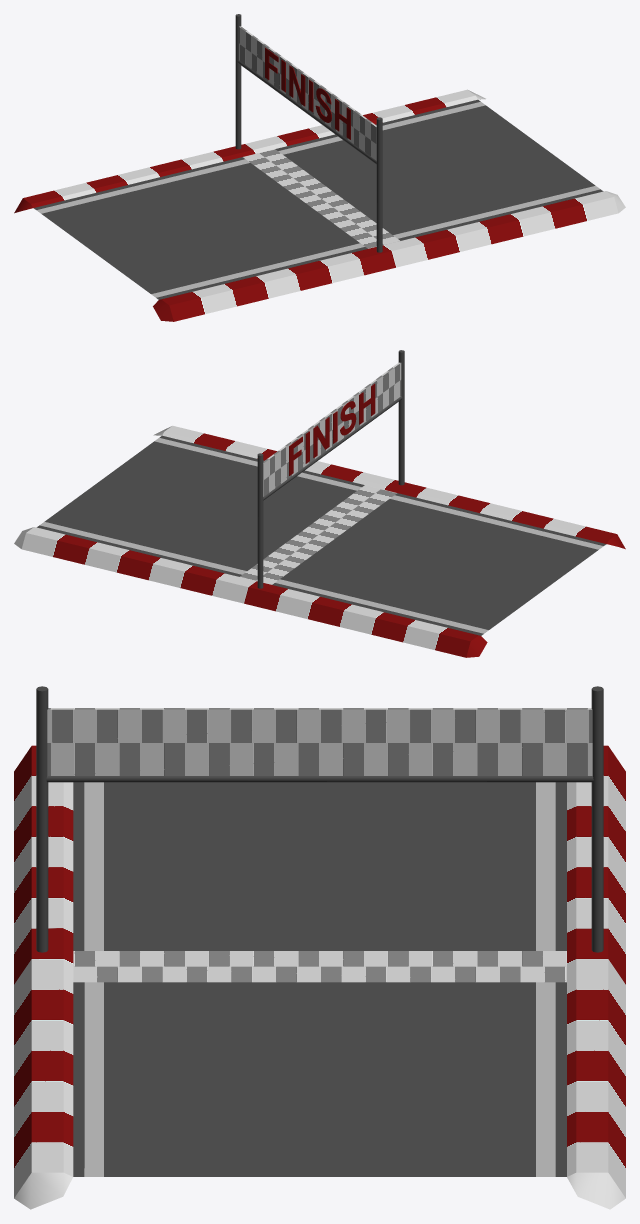
The model's file is Track_Finish.FBX.
3 views of the same model, one above another, from view 1: azimuth 30°, elevation 25°; view 2: azimuth 150°, elevation 25°; view 3: azimuth 270°, elevation 25° (orthographic). The views are drawn at different scales.
Visible parts, largest first — view 1: Track_Finish, Track_Finish_Apex_Right, Track_Finish_Apex_Left, finish_text; view 2: Track_Finish, Track_Finish_Apex_Left, Track_Finish_Apex_Right, finish_text; view 3: Track_Finish, Track_Finish_Apex_Right, Track_Finish_Apex_Left.
Part boxes in pixels (x1,y1,x2,y2): Track_Finish: (33, 14, 603, 299); Track_Finish_Apex_Right: (153, 191, 625, 321); Track_Finish_Apex_Left: (14, 89, 485, 213); finish_text: (265, 47, 350, 139); Track_Finish: (37, 350, 606, 635); Track_Finish_Apex_Left: (14, 527, 487, 657); Track_Finish_Apex_Right: (153, 425, 625, 549); finish_text: (289, 383, 375, 475); Track_Finish: (36, 686, 603, 1176); Track_Finish_Apex_Right: (14, 745, 73, 1209); Track_Finish_Apex_Left: (567, 745, 625, 1209).
Bounding box in the file's own units: 1778 × 533 × 1030.
Materials: 1 (1 with a texture image).
